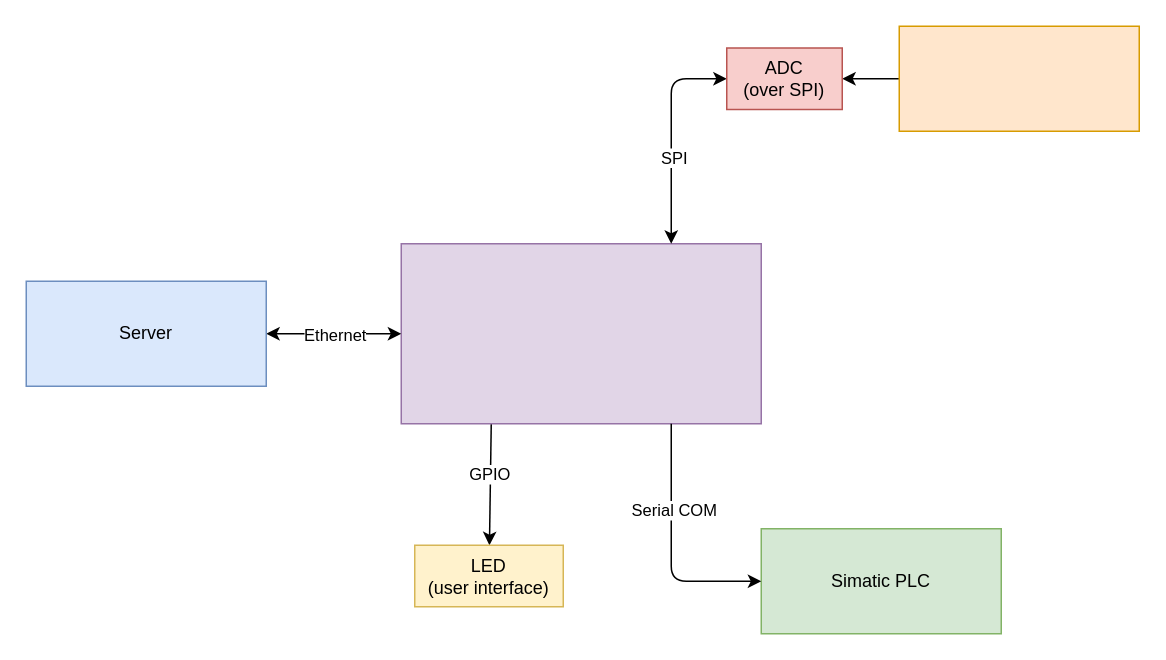
This 1166x660 diagram has some shape labels left out. Here are the shapes that lost their labels. From the top down, the centre of each, then its label:
At (1018,78): "LED modules".
At (580,333): "DEVICE".
